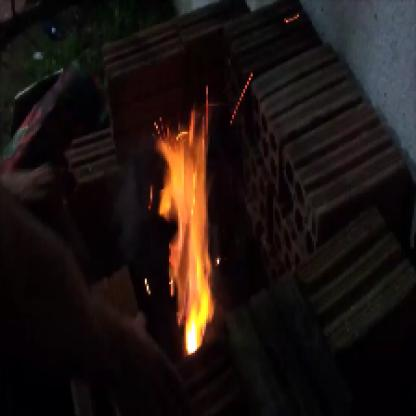Fire: (136, 72, 230, 360)
